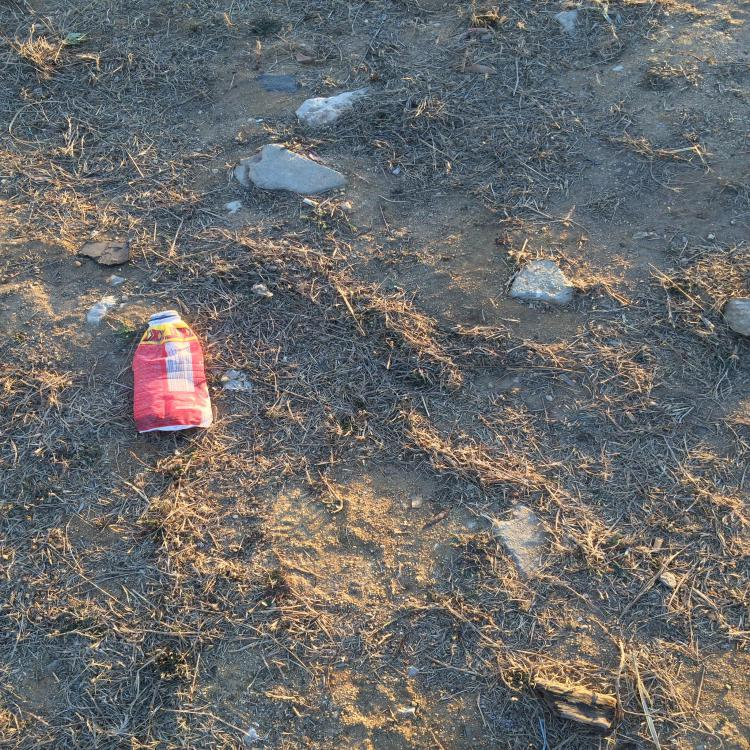Cigarette: (653, 537, 664, 553)
Other plastic wrapper: (538, 716, 546, 750)
